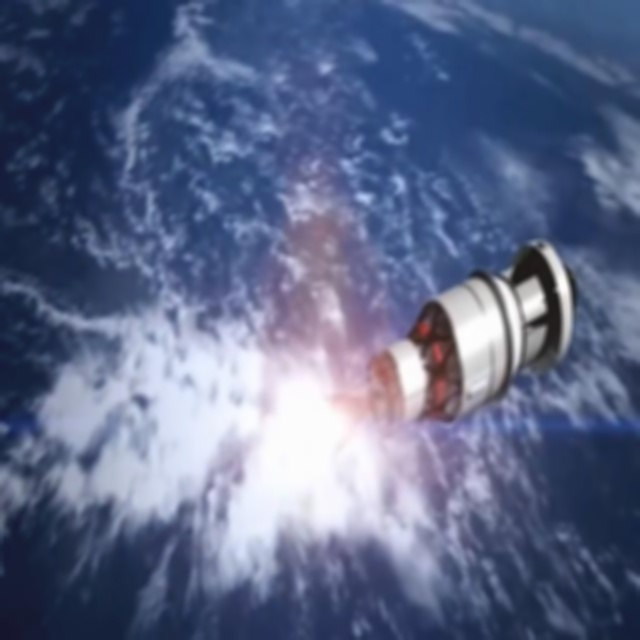satellite: (328, 232, 603, 475)
